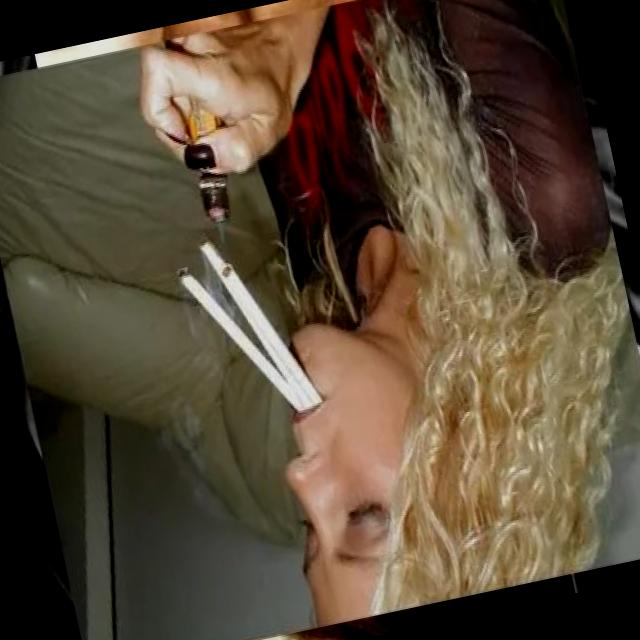cigarette: (165, 214, 332, 440)
